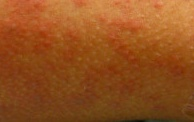SJS-TEN: (0, 0, 192, 118)
